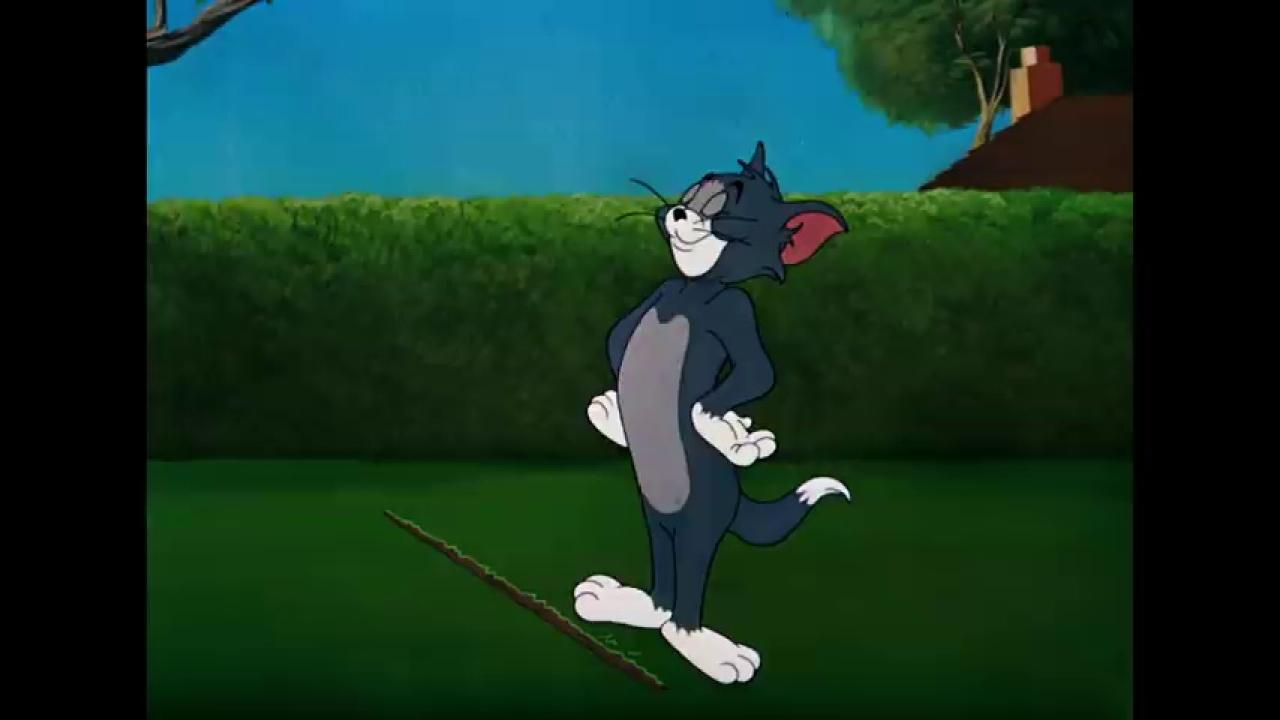Tom: (574, 139, 856, 688)
